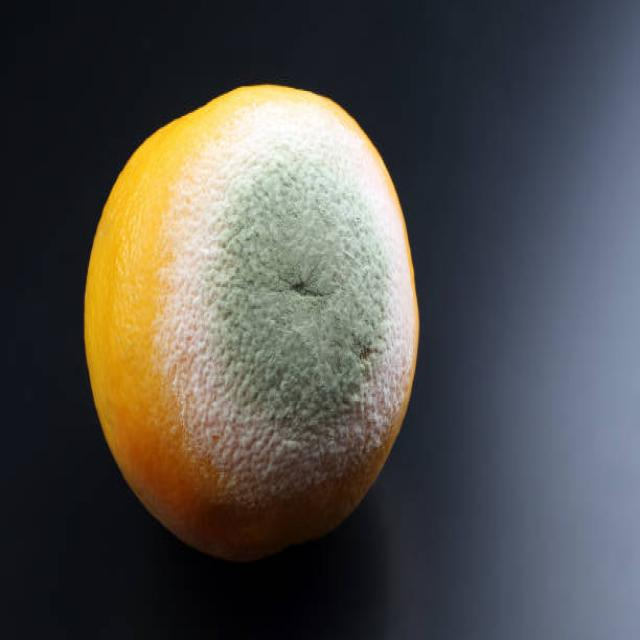Rotten: (82, 83, 420, 561)
